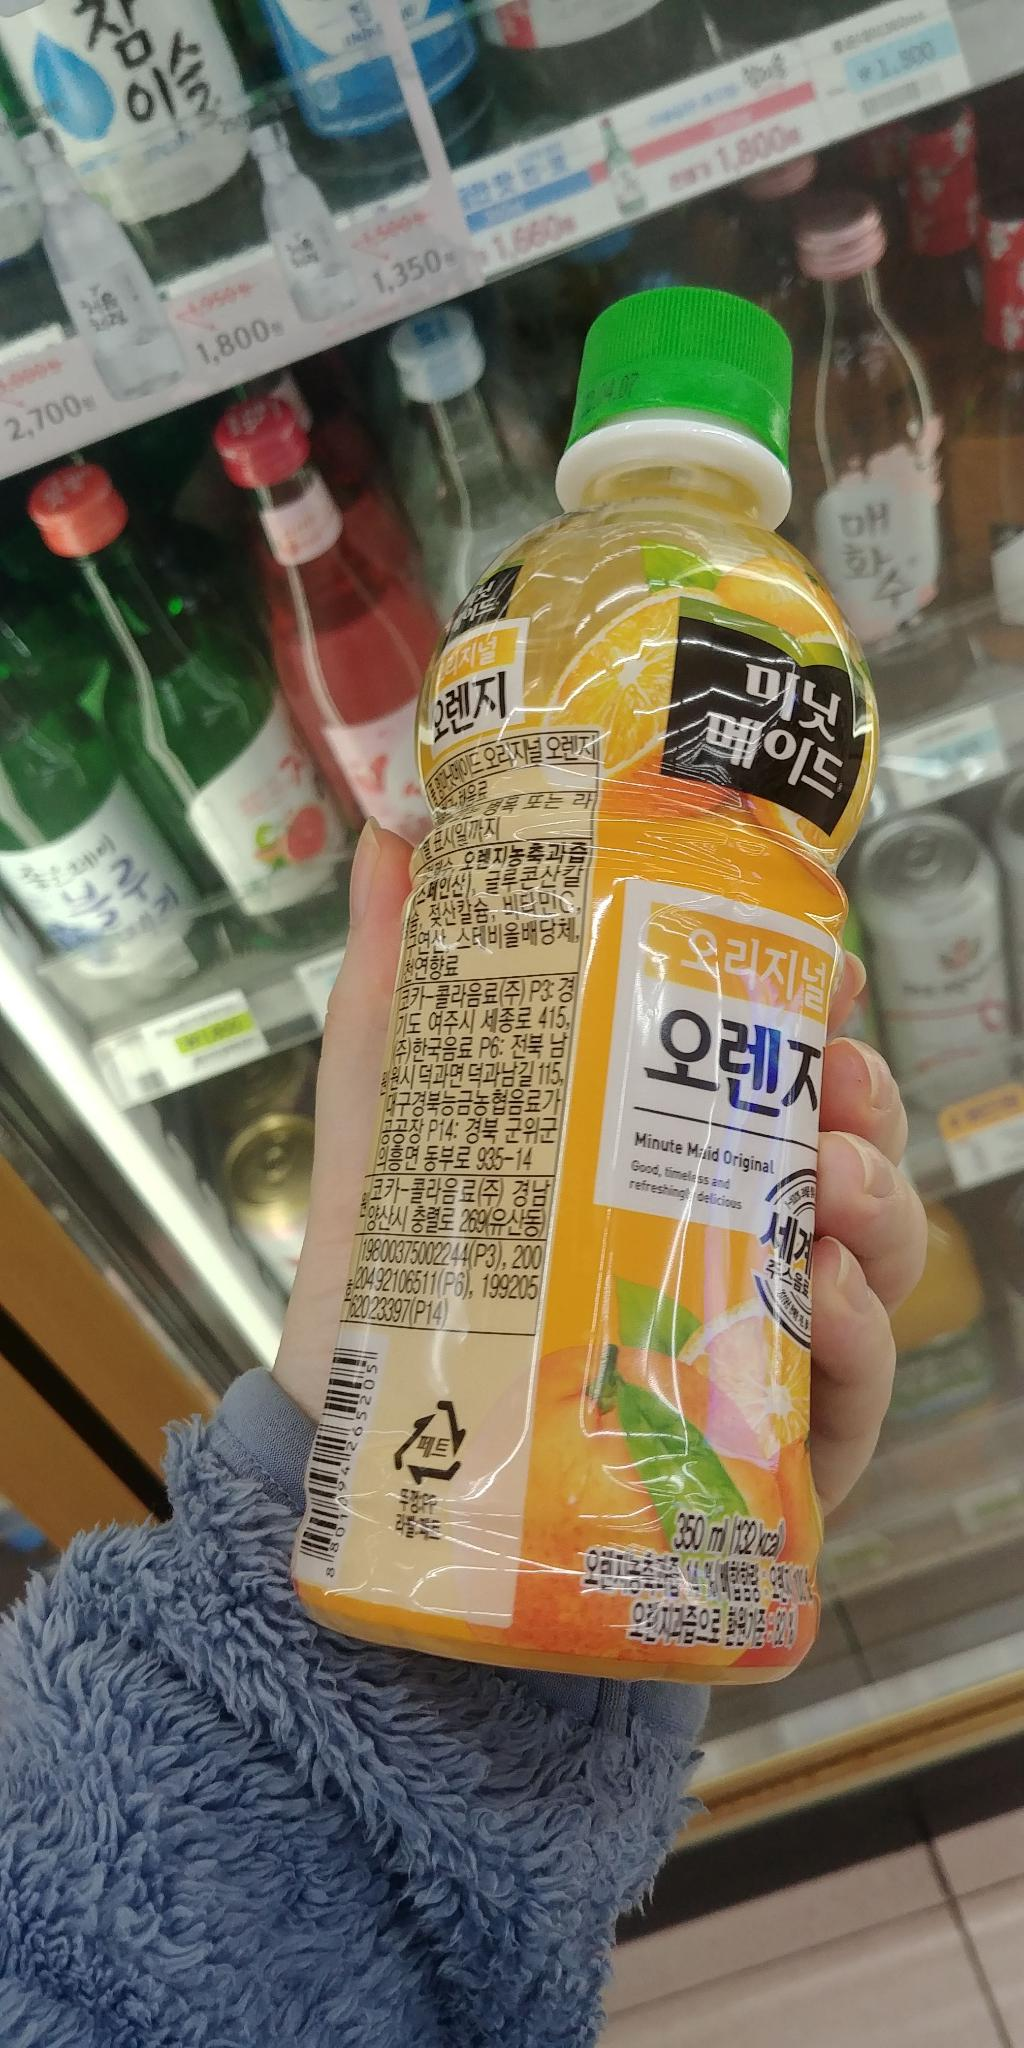minutemaid_org_orange: (286, 270, 889, 1707)
